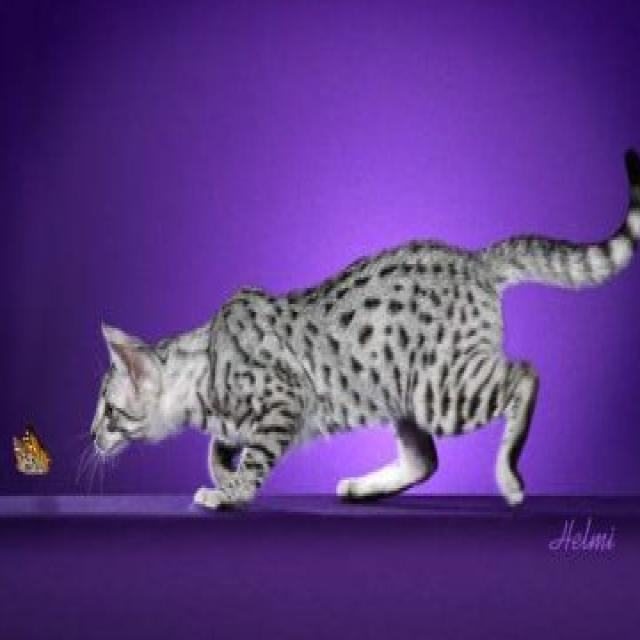Egyptian Mau: (87, 141, 640, 512)
